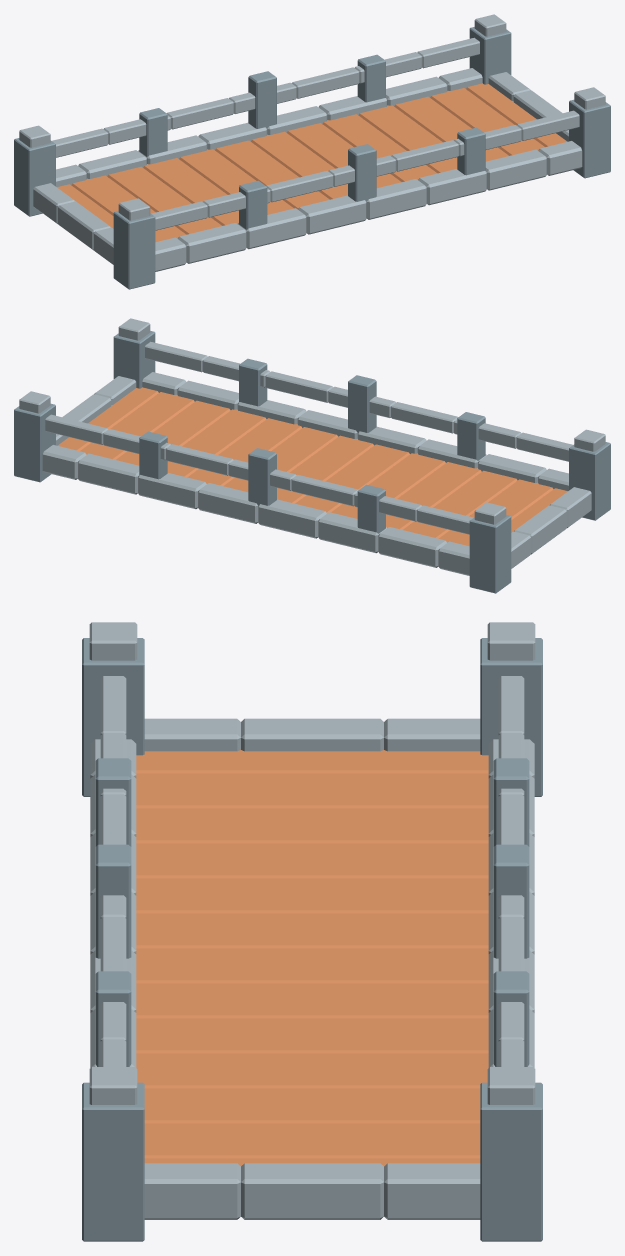
The model's file is Cau.fbx.
The picture shows the model from 3 angles, top to bottom: view 1: azimuth 30°, elevation 25°; view 2: azimuth 150°, elevation 25°; view 3: azimuth 270°, elevation 25°; orthographic projection. The views are drawn at different scales.
Parts seen in each view (by area): view 1: C2, C0, C1, C4, C3; view 2: C1, C0, C2, C4, C3; view 3: C0, C1, C2, C3, C4.
Boxes of the visible parts, left/top/right/bottom form: C2: left=113, top=87, right=610, bottom=289; C0: left=57, top=83, right=567, bottom=242; C1: left=14, top=14, right=511, bottom=216; C4: left=33, top=183, right=113, bottom=264; C3: left=488, top=72, right=568, bottom=141; C1: left=14, top=391, right=511, bottom=593; C0: left=57, top=387, right=567, bottom=546; C2: left=113, top=318, right=610, bottom=520; C4: left=511, top=487, right=591, bottom=568; C3: left=56, top=376, right=136, bottom=445; C0: left=136, top=750, right=488, bottom=1166; C1: left=480, top=622, right=542, bottom=1241; C2: left=82, top=622, right=144, bottom=1241; C3: left=144, top=1163, right=480, bottom=1219; C4: left=144, top=718, right=480, bottom=751.
Bounding box in the file's own units: 586 × 88.8 × 242.
